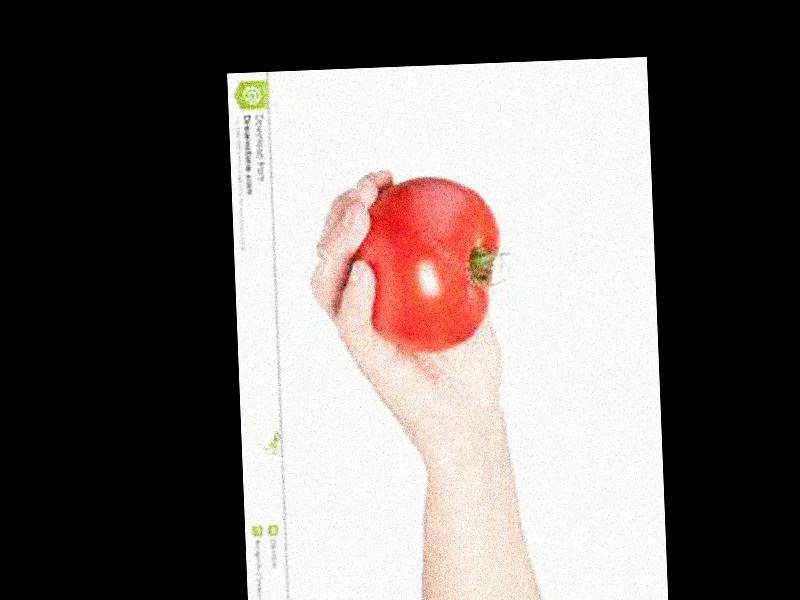Tomato: (350, 174, 505, 357)
